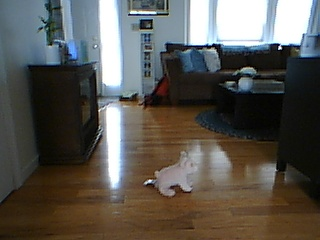piggy: (153, 149, 198, 198)
